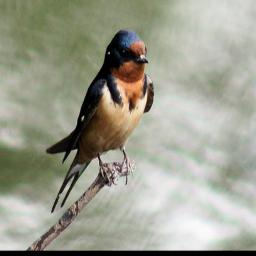Swallow: (50, 28, 157, 215)
